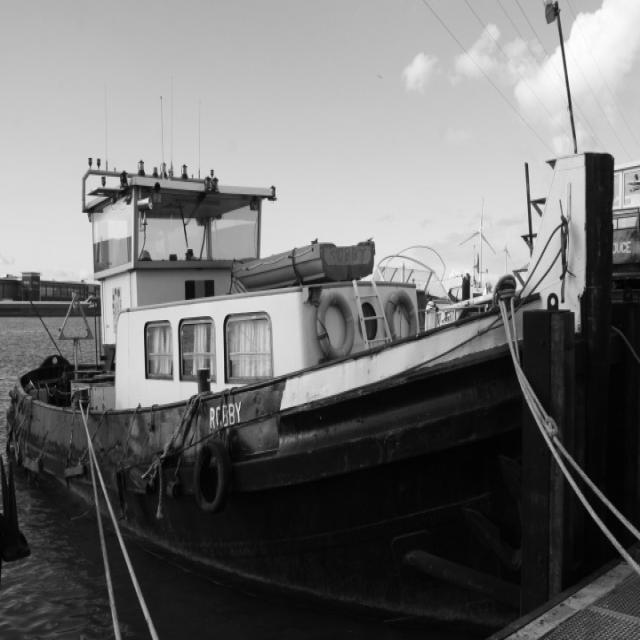tugboat: (3, 70, 640, 640)
